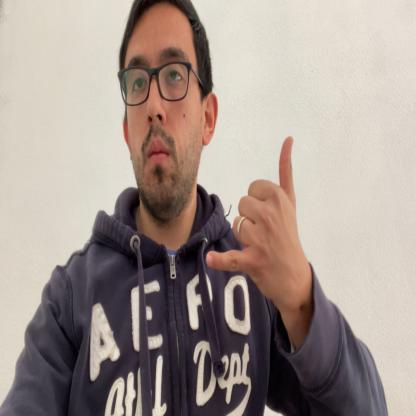Y: (206, 136, 300, 294)
